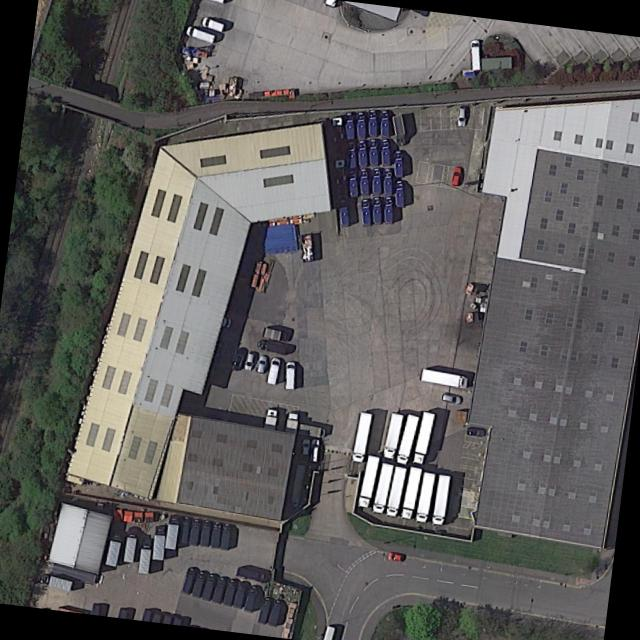large-vehicle: (397, 465, 422, 521), (409, 410, 434, 465), (368, 462, 393, 515), (355, 454, 379, 509), (393, 413, 418, 465), (382, 465, 405, 518), (413, 471, 435, 524), (417, 367, 467, 390), (349, 411, 371, 463), (429, 473, 450, 526), (381, 412, 403, 461), (102, 531, 123, 568), (281, 412, 298, 450), (162, 514, 179, 551), (134, 539, 151, 575), (260, 407, 277, 443), (254, 338, 286, 357), (198, 571, 216, 603), (121, 529, 137, 564), (234, 566, 265, 584), (187, 568, 205, 599), (260, 326, 290, 344), (240, 584, 258, 614), (219, 577, 236, 608), (179, 565, 196, 596), (264, 599, 282, 628), (150, 525, 164, 561), (209, 574, 225, 605), (295, 423, 325, 439), (196, 519, 212, 549), (229, 582, 246, 610), (185, 516, 200, 547), (341, 111, 356, 141), (354, 138, 368, 170), (255, 597, 271, 625), (206, 521, 221, 550), (343, 139, 357, 169), (335, 200, 350, 228), (217, 522, 231, 552), (175, 515, 189, 545), (390, 149, 404, 178), (365, 108, 378, 139), (354, 109, 367, 140), (368, 166, 381, 197), (366, 139, 380, 167), (376, 110, 390, 138), (377, 139, 391, 167), (345, 168, 358, 198), (356, 168, 369, 197), (391, 180, 404, 208), (359, 198, 371, 226), (380, 169, 392, 197), (370, 196, 381, 225), (381, 197, 392, 224)
small-vehicle: (185, 25, 214, 44), (199, 15, 224, 33), (264, 356, 279, 386), (468, 39, 480, 71), (230, 347, 245, 372), (283, 360, 294, 390), (306, 438, 319, 463), (438, 392, 460, 405), (242, 351, 254, 372), (254, 354, 266, 375), (449, 166, 460, 187), (214, 315, 231, 328), (465, 426, 484, 437), (455, 107, 465, 127), (299, 438, 308, 455), (385, 552, 400, 562)
